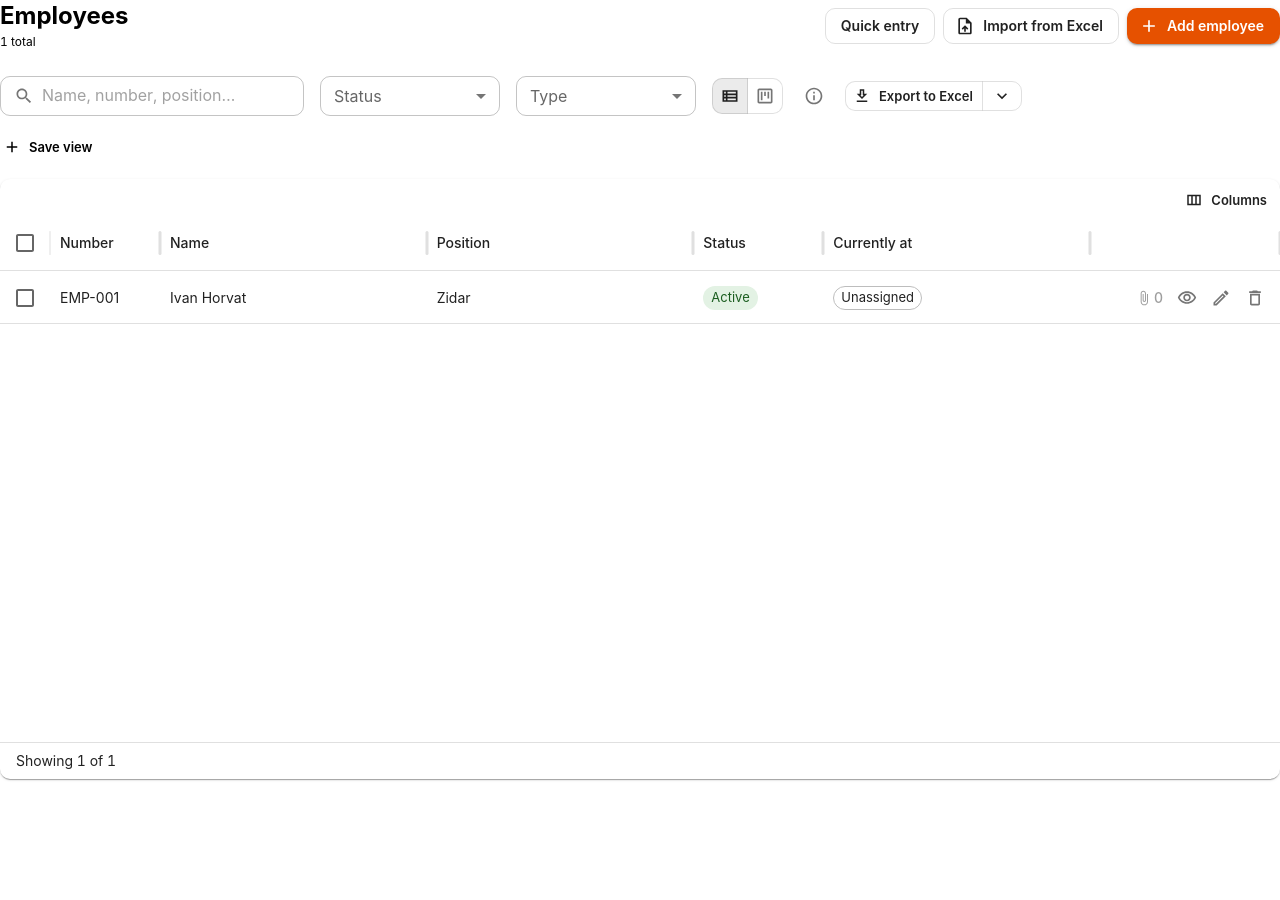
Test: EmployeesListPage › asks before deleting, and sends nothing if the operator backs out
Expected: the text "EMP-001" is shown, [60,289,119,306]
Click the button named "Delete" at (1255, 298), box [1240,283,1270,313]
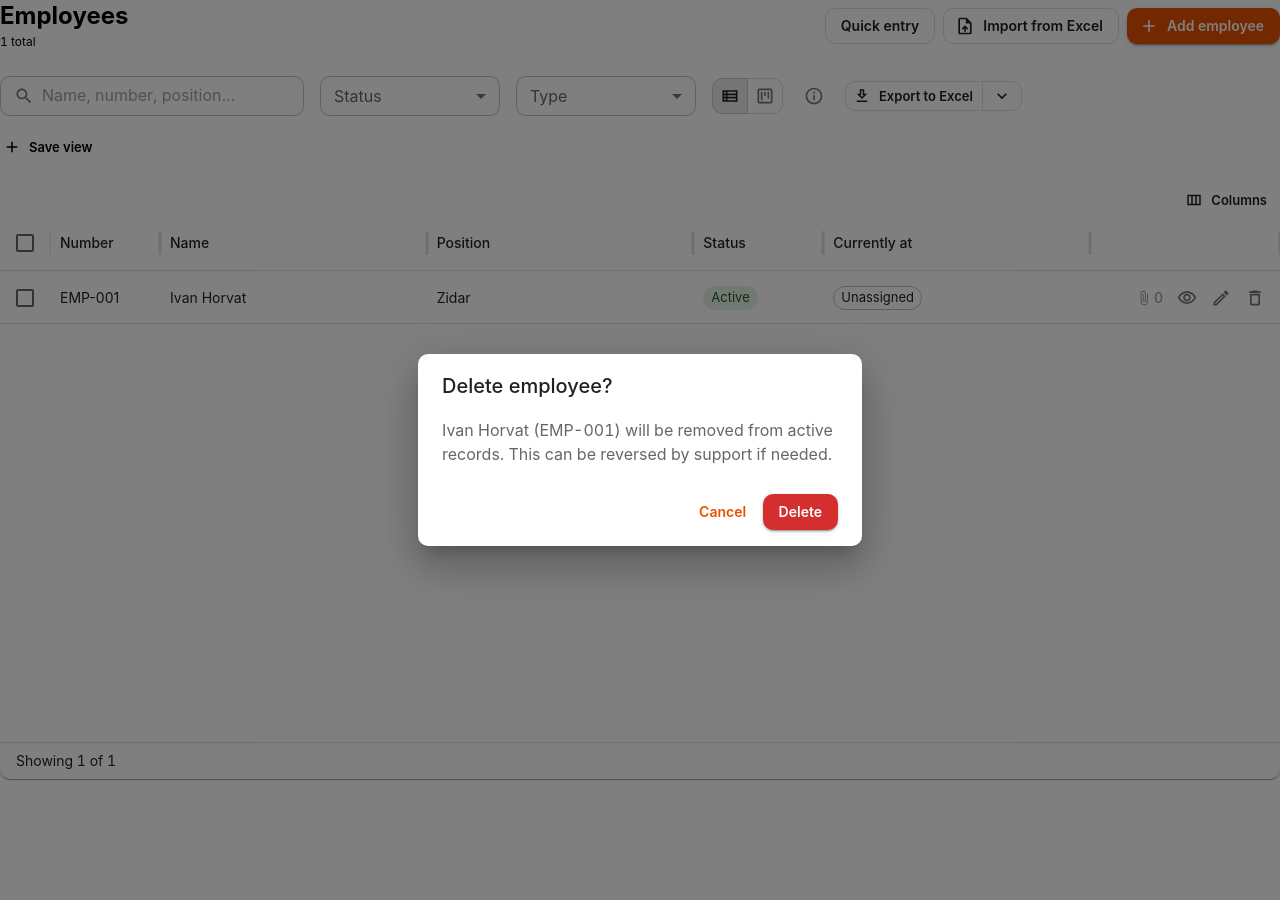
Click the button "Cancel" at (723, 512), box [691,494,755,530]
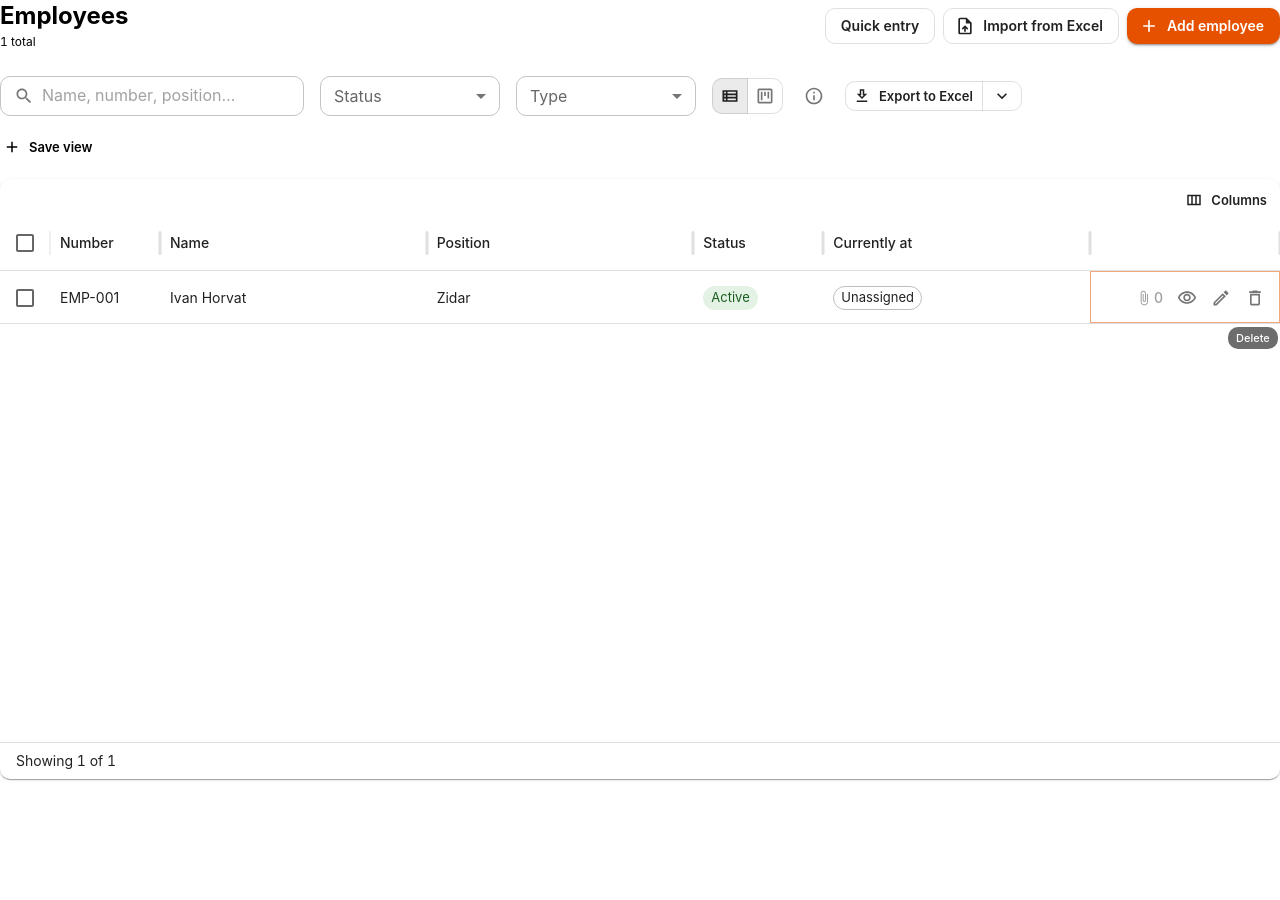
Expected: the dialog is gone
